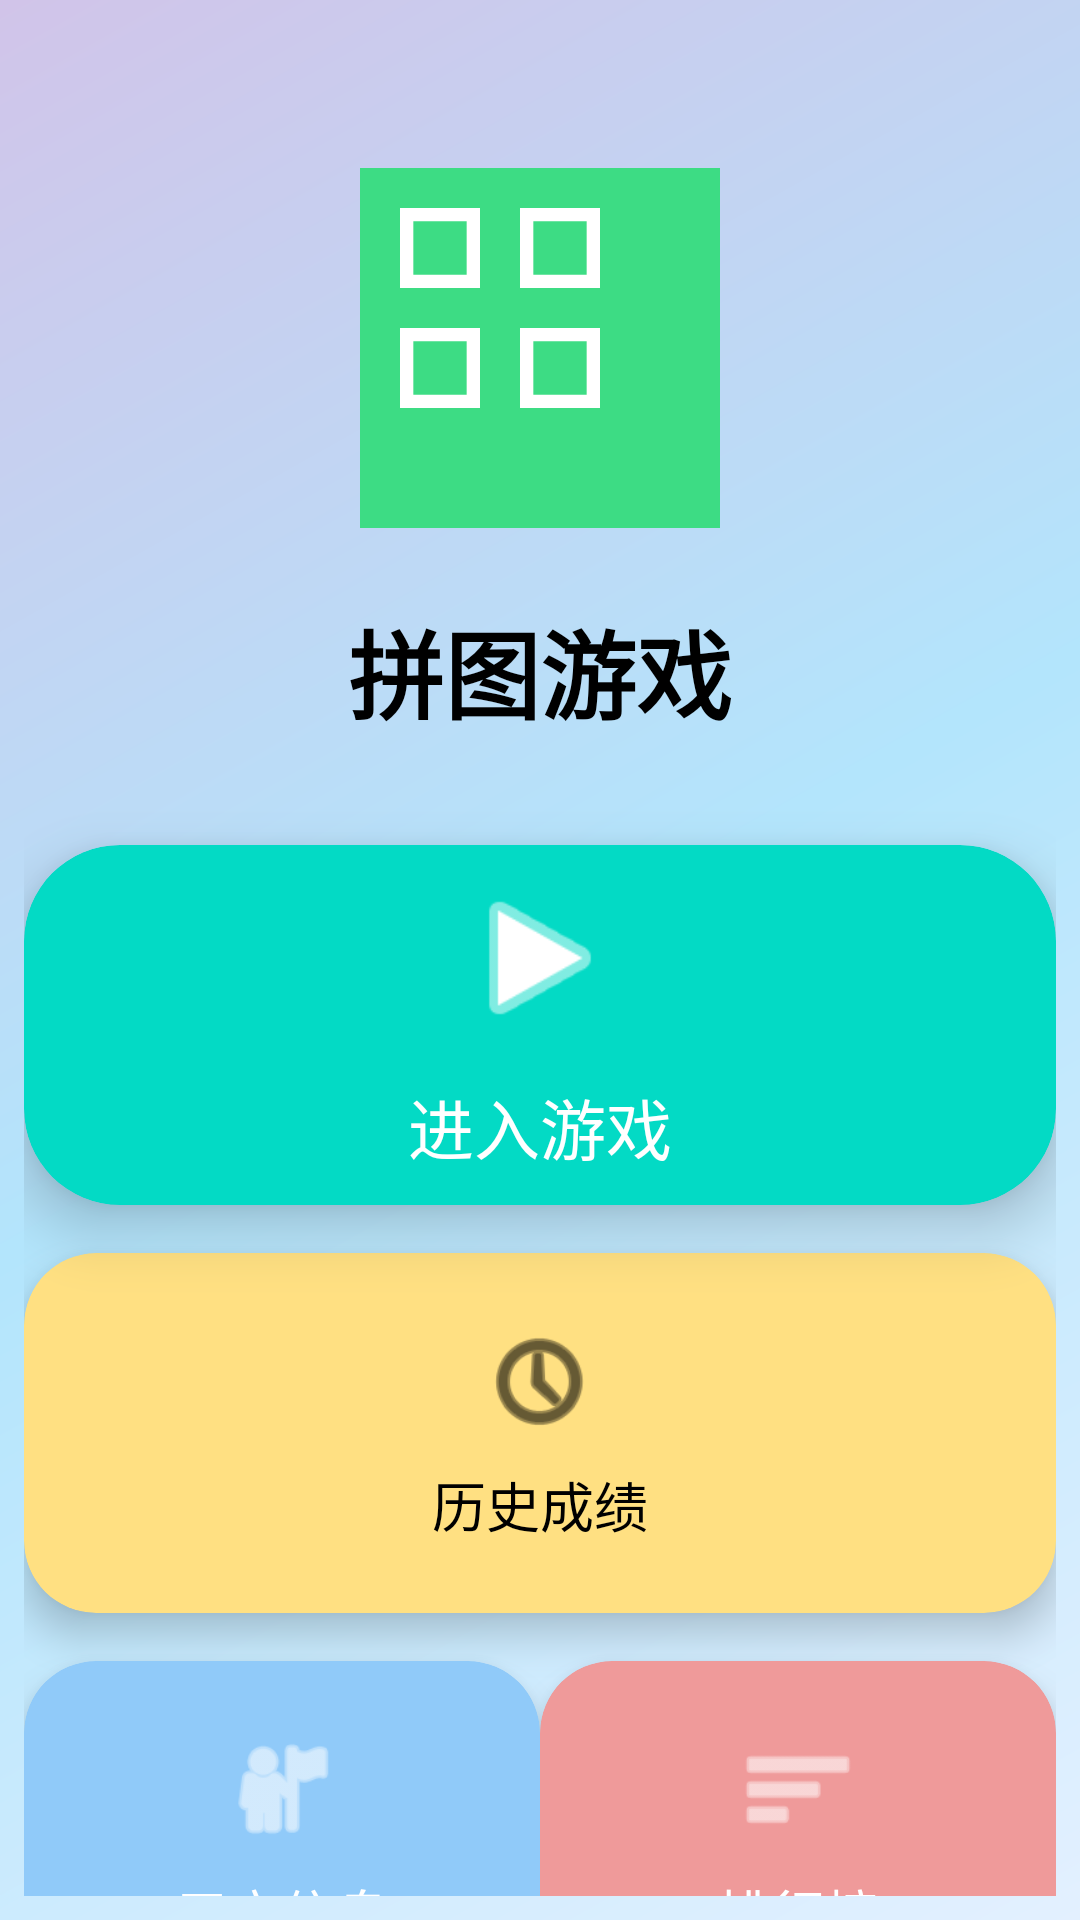

Named icons in this screenshot (1080px x 1920px) and their centers, [x,y]:
myplaces: [283,1789]
play: [540,958]
recent history: [539,1381]
sort by size: [798,1789]
